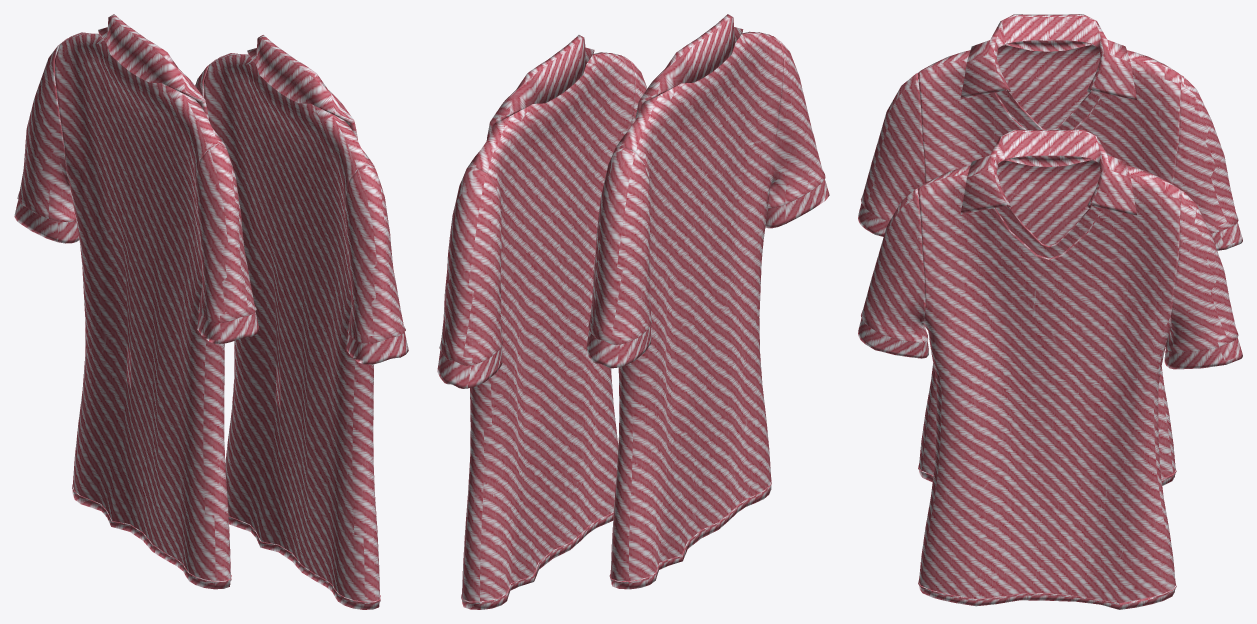
File: yifu12txu_02.fbx
3 views of the same model, side by side, from view 1: azimuth 30°, elevation 25°; view 2: azimuth 150°, elevation 25°; view 3: azimuth 270°, elevation 25° (orthographic). The views are drawn at different scales.
Parts seen in each view (by area): view 1: yifu12txu_02; view 2: yifu12txu_02; view 3: yifu12txu_02.
Boxes of the visible parts, x1,y1,x2,y2 form: yifu12txu_02: [14, 14, 408, 609]; yifu12txu_02: [437, 14, 829, 609]; yifu12txu_02: [858, 14, 1242, 609].
Size of the model in its own units: 35.14 by 87.95 by 60.17.
